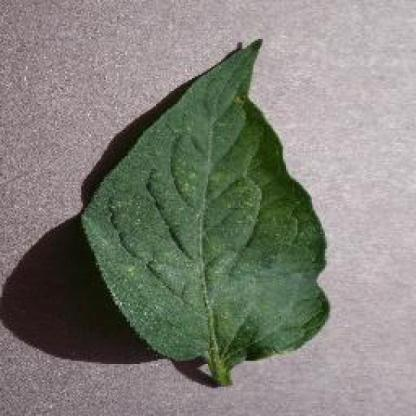Tomato_Spider_Mites: (83, 38, 330, 359)
